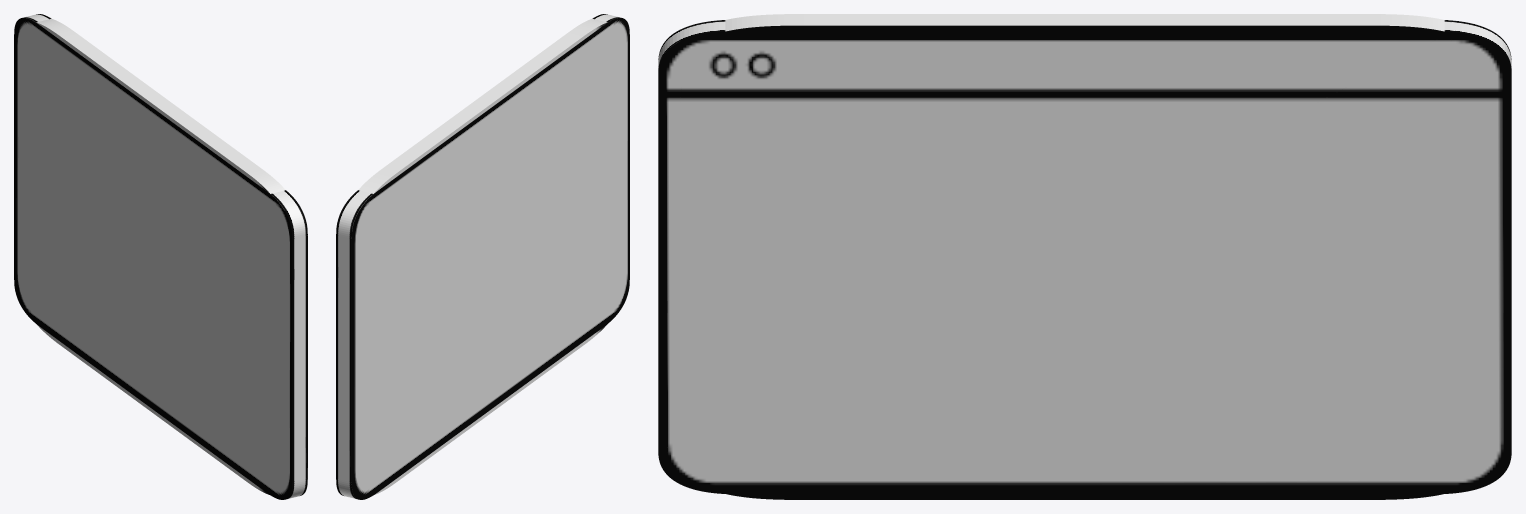
File: popup.gltf
3 views of the same model, side by side, from view 1: azimuth 30°, elevation 25°; view 2: azimuth 150°, elevation 25°; view 3: azimuth 270°, elevation 25° (orthographic). The views are drawn at different scales.
Parts seen in each view (by area): view 1: Cube, Cube.112; view 2: Cube, Cube.112; view 3: Cube, Cube.112.
Boxes of the visible parts, left/top/right/bottom form: Cube: left=14, top=14, right=307, bottom=499; Cube.112: left=36, top=18, right=285, bottom=494; Cube: left=336, top=14, right=629, bottom=499; Cube.112: left=358, top=18, right=607, bottom=494; Cube: left=658, top=20, right=1511, bottom=494; Cube.112: left=725, top=14, right=1444, bottom=499.
Bounding box in the file's own units: 0.3 × 5.65 × 9.22.
2 materials, 2 textured.
